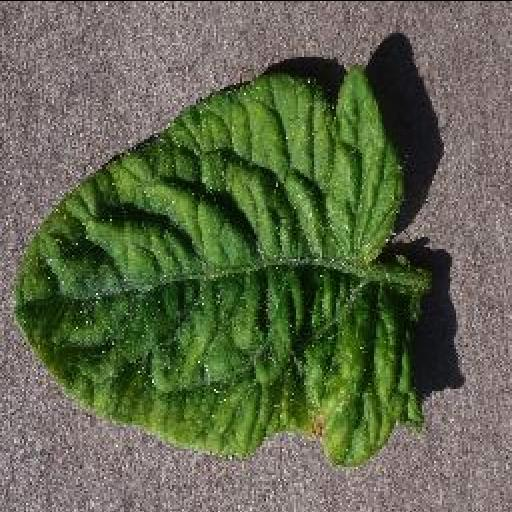disease_tomato: (14, 66, 428, 466)
